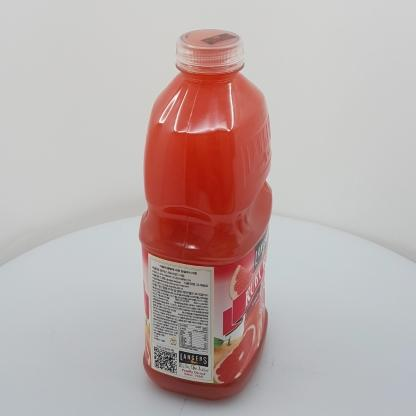---------------: (138, 29, 272, 401)
